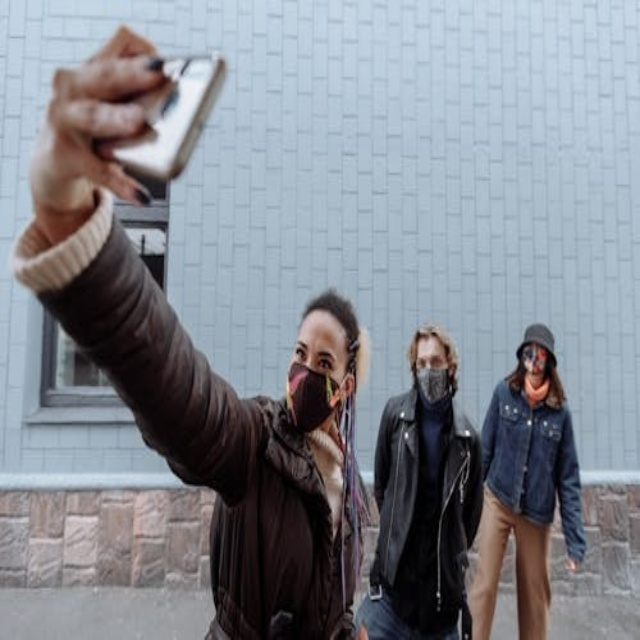Mascara: (286, 354, 348, 433), (415, 366, 450, 404), (518, 344, 548, 369)
Sin_gafas: (296, 332, 340, 367), (415, 352, 444, 371)
Sin_guantes: (21, 28, 175, 246)
